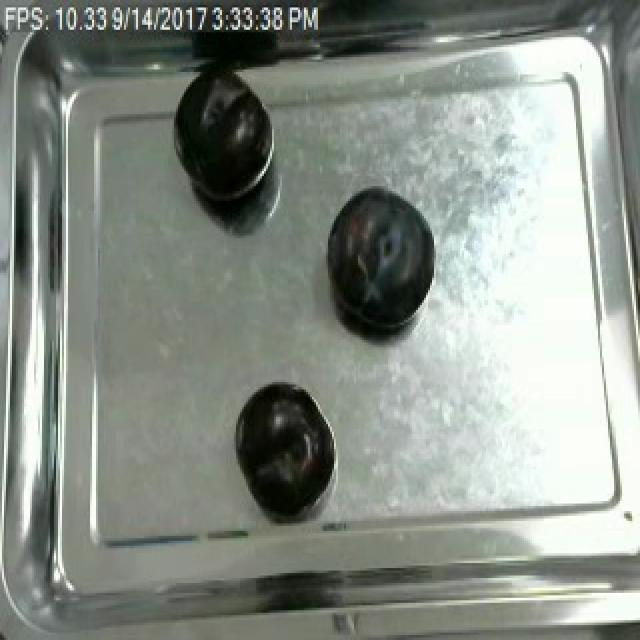Fruit: (322, 178, 440, 340), (168, 64, 278, 214), (230, 379, 330, 518)
